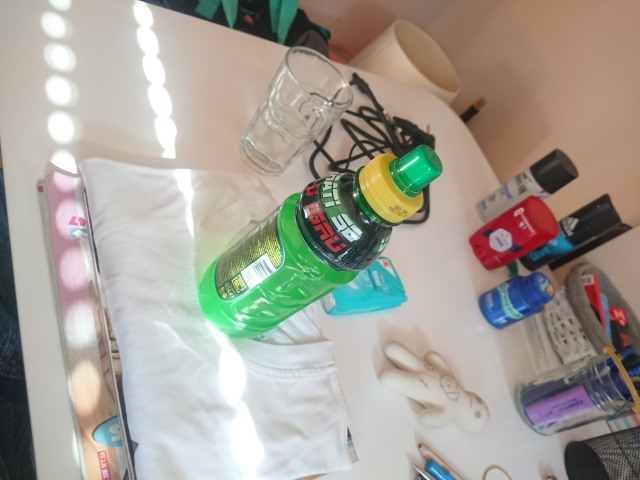Vindi Iso Sport Lemon-Grapefruit 500mL: (194, 142, 445, 341)
